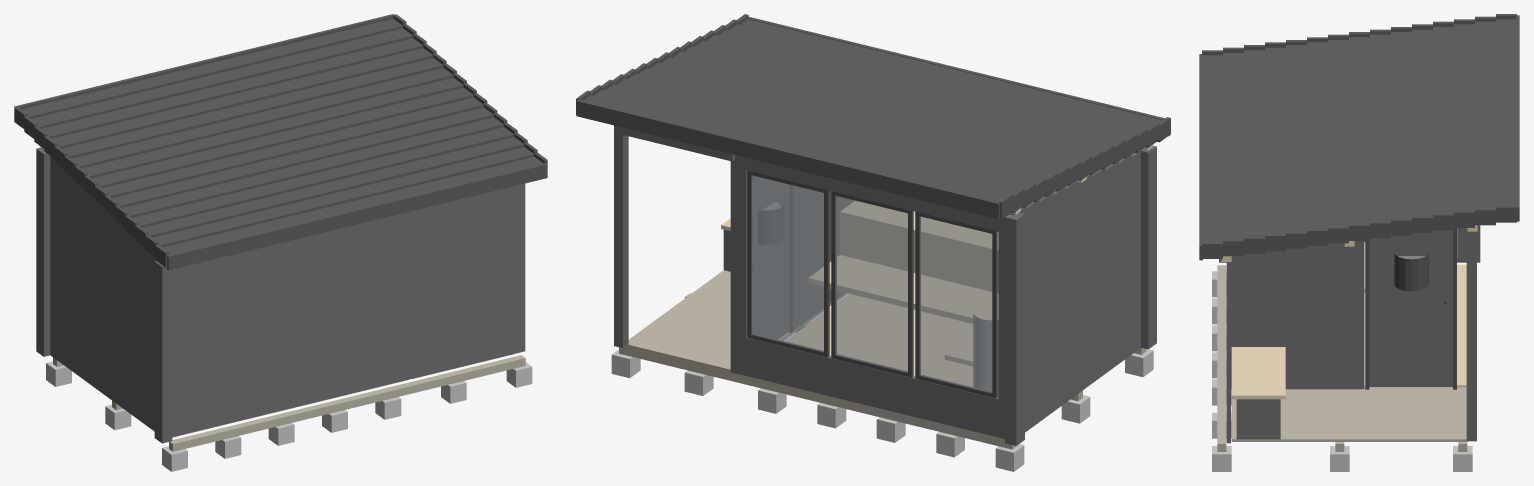
The model's file is hannu_bastu.gltf.
3 views of the same model, side by side, from view 1: azimuth 30°, elevation 25°; view 2: azimuth 150°, elevation 25°; view 3: azimuth 270°, elevation 25° (orthographic). The views are drawn at different scales.
Visible parts, largest first — view 1: HannuSauna; view 2: HannuSauna; view 3: HannuSauna.
Boxes of the visible parts, left/top/right/bottom form: HannuSauna: left=14, top=14, right=547, bottom=471; HannuSauna: left=576, top=14, right=1170, bottom=471; HannuSauna: left=1199, top=14, right=1519, bottom=471.
Size of the model in its own units: 4.66 by 3.03 by 3.26.
